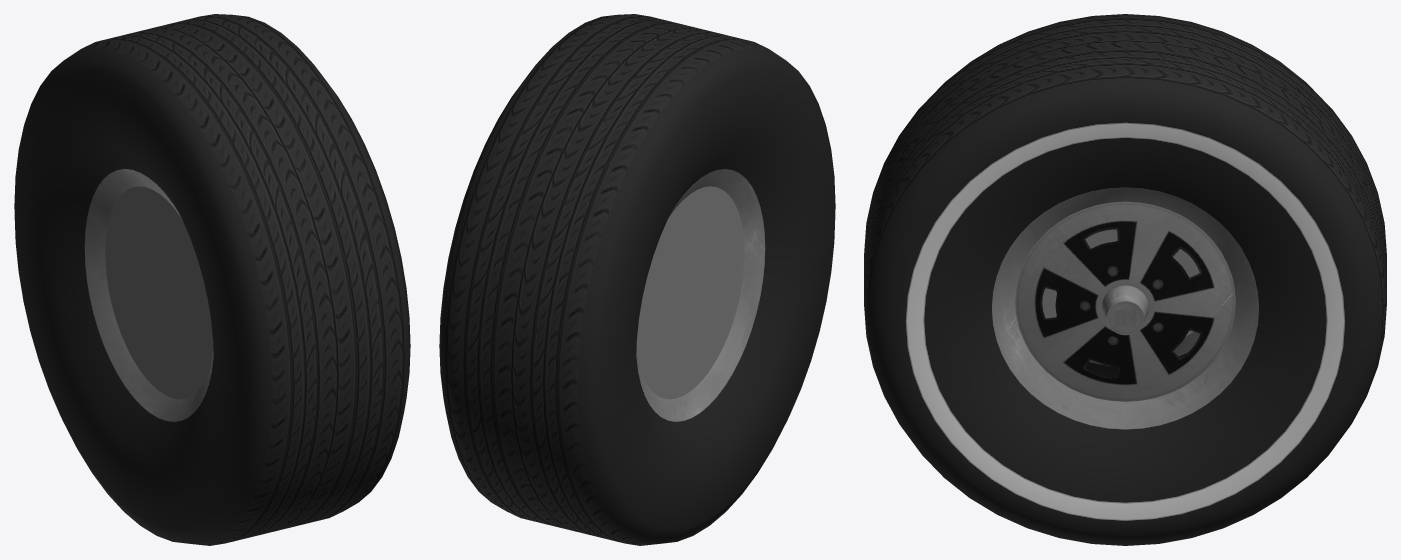
The picture shows the model from 3 angles, left to right: view 1: azimuth 30°, elevation 25°; view 2: azimuth 150°, elevation 25°; view 3: azimuth 270°, elevation 25°; orthographic projection.
Visible parts, largest first — view 1: Tyre_Rim_LP; view 2: Tyre_Rim_LP; view 3: Tyre_Rim_LP.
Boxes of the visible parts, x1,y1,x2,y2 form: Tyre_Rim_LP: [14, 14, 410, 545]; Tyre_Rim_LP: [439, 14, 835, 545]; Tyre_Rim_LP: [864, 14, 1386, 545].
Bounding box in the file's own units: 10.07 × 27.2 × 27.2.
1 material, 1 textured.
